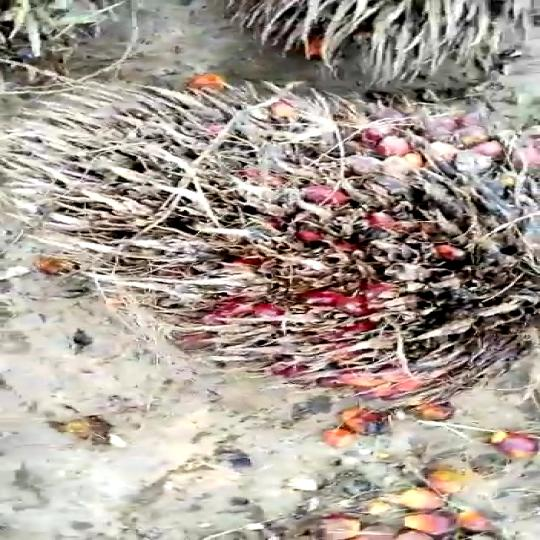terlalu masak: (35, 68, 540, 409)
